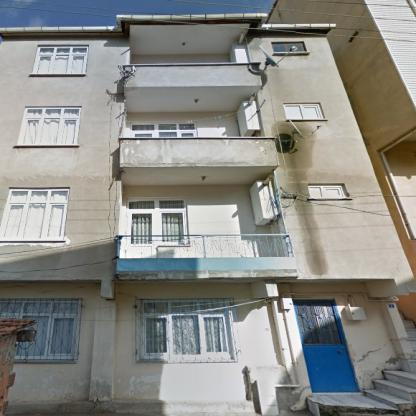door: (293, 301, 356, 391)
window: (143, 300, 228, 356), (0, 300, 78, 358), (2, 190, 69, 237), (127, 200, 185, 244), (19, 107, 81, 144), (35, 47, 86, 73), (131, 123, 195, 137), (284, 104, 322, 119), (309, 186, 344, 198), (272, 42, 306, 52)
